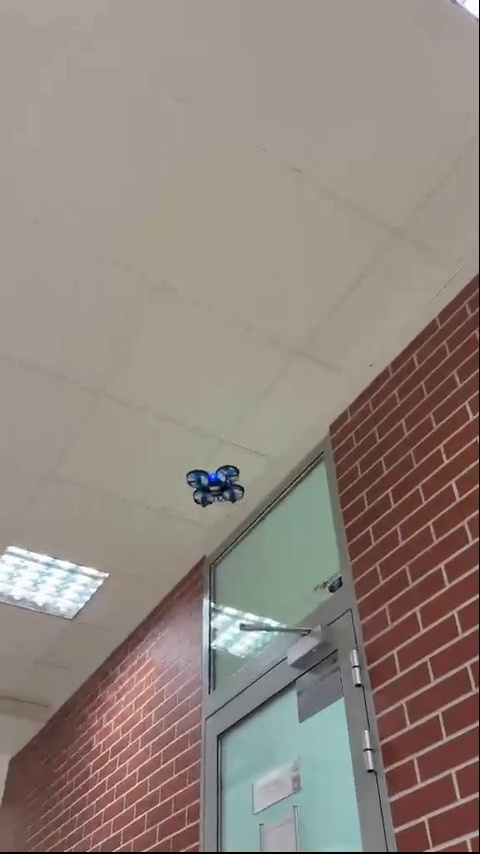drone: (191, 463, 243, 508)
